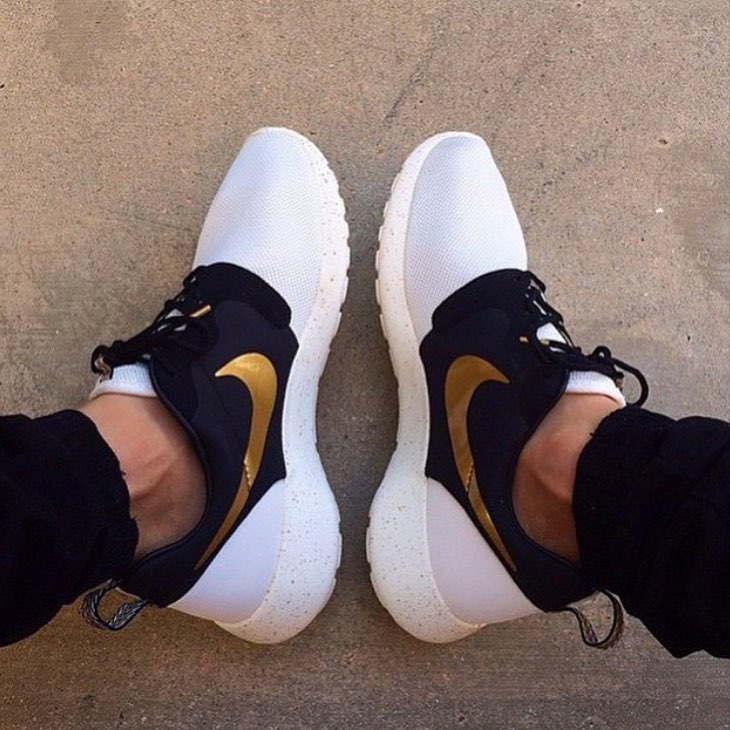sneaker: (41, 95, 361, 670), (364, 115, 657, 672)
